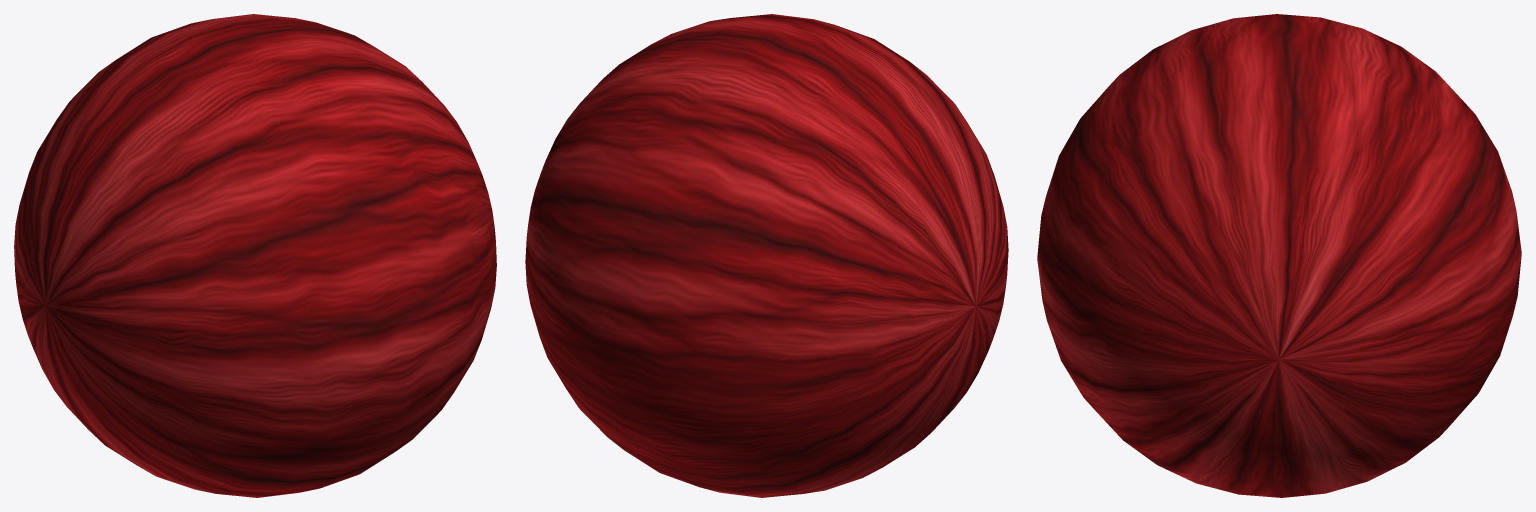
The model's file is Ultima etapa.fbx.
The picture shows the model from 3 angles, left to right: view 1: azimuth 30°, elevation 25°; view 2: azimuth 150°, elevation 25°; view 3: azimuth 270°, elevation 25°; orthographic projection.
Parts seen in each view (by area): view 1: skybox Abstract; view 2: skybox Abstract; view 3: skybox Abstract.
Part boxes in pixels (x1,y1,x2,y2): skybox Abstract: (14,14,496,497); skybox Abstract: (525,14,1008,497); skybox Abstract: (1037,14,1521,497).
Bounding box in the file's own units: 26017 × 26015 × 26015.
8 materials, 2 textured.
